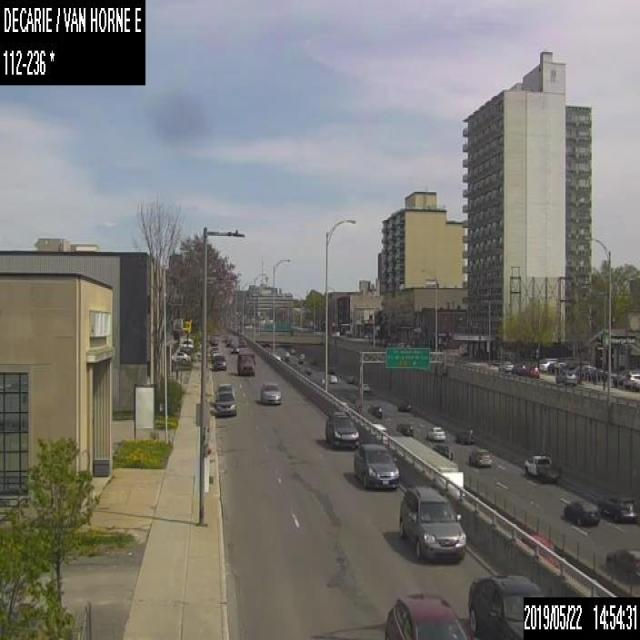vehicle: (466, 572, 546, 639), (398, 484, 467, 560), (390, 421, 463, 484), (383, 592, 467, 639), (355, 442, 400, 489), (604, 545, 639, 584), (597, 492, 639, 523), (325, 410, 358, 448), (521, 454, 560, 482), (563, 498, 600, 525), (214, 390, 236, 415), (468, 446, 492, 468), (259, 381, 281, 403), (236, 351, 254, 375), (431, 442, 453, 459), (555, 368, 578, 384), (456, 424, 474, 444), (426, 424, 444, 440), (588, 368, 607, 383), (574, 363, 594, 377), (396, 421, 413, 437), (216, 382, 232, 398), (170, 350, 190, 362), (498, 359, 514, 373), (368, 401, 382, 416), (624, 372, 639, 386), (524, 364, 539, 378), (538, 358, 554, 371), (212, 353, 225, 368), (396, 400, 412, 412), (547, 361, 564, 371), (180, 337, 193, 350), (512, 361, 524, 374), (344, 372, 356, 384), (210, 350, 222, 362), (327, 373, 338, 382), (237, 336, 246, 346), (230, 343, 239, 352), (209, 336, 218, 345), (362, 382, 370, 392), (209, 345, 217, 354), (225, 336, 232, 345), (305, 366, 312, 374), (333, 329, 339, 336), (298, 357, 304, 363), (298, 352, 304, 358), (283, 355, 290, 360), (283, 350, 289, 355), (290, 347, 294, 354)
